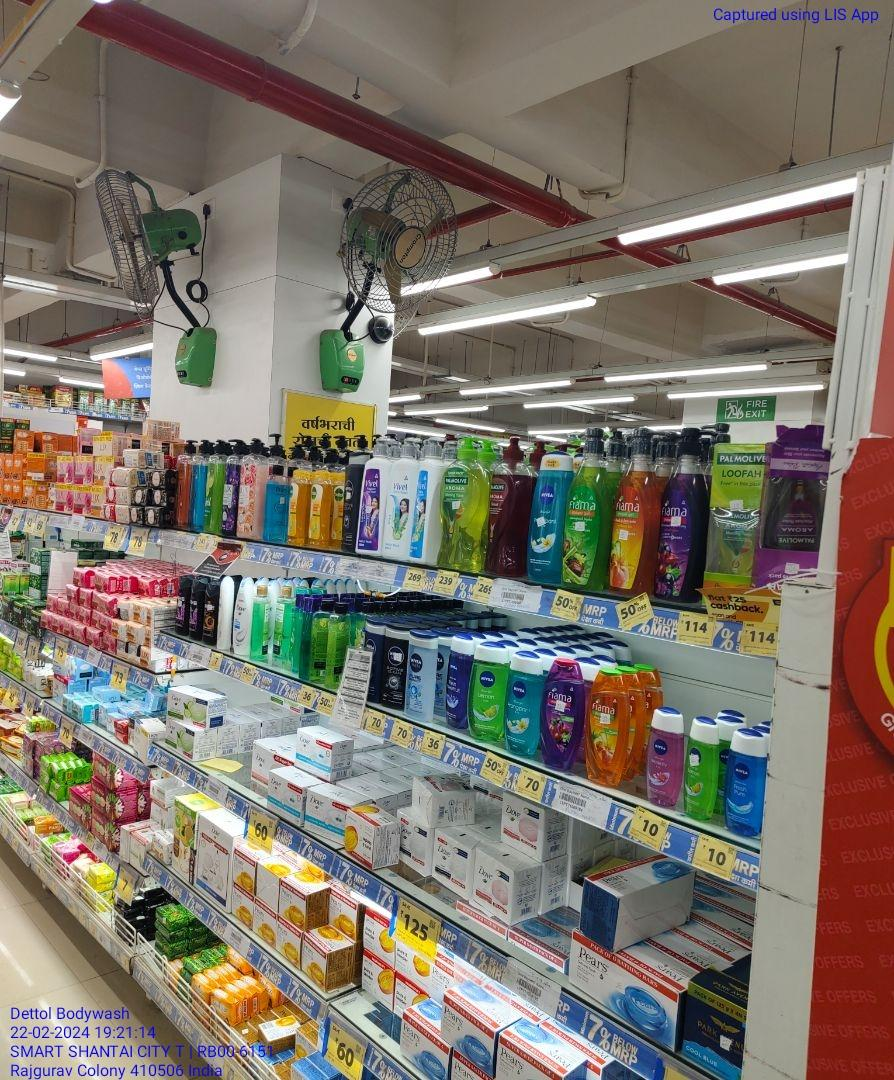Fiama_Shower_Gel_Peach_and_Avocado_250ML: (587, 664, 624, 784)
Nivea_Shower_Gel_Frangipani_and_Oil_250ML: (528, 452, 560, 583), (504, 655, 536, 756)
Nivea_Shower_Gel_Lemon_and_Oil_250ML: (470, 640, 502, 744)
